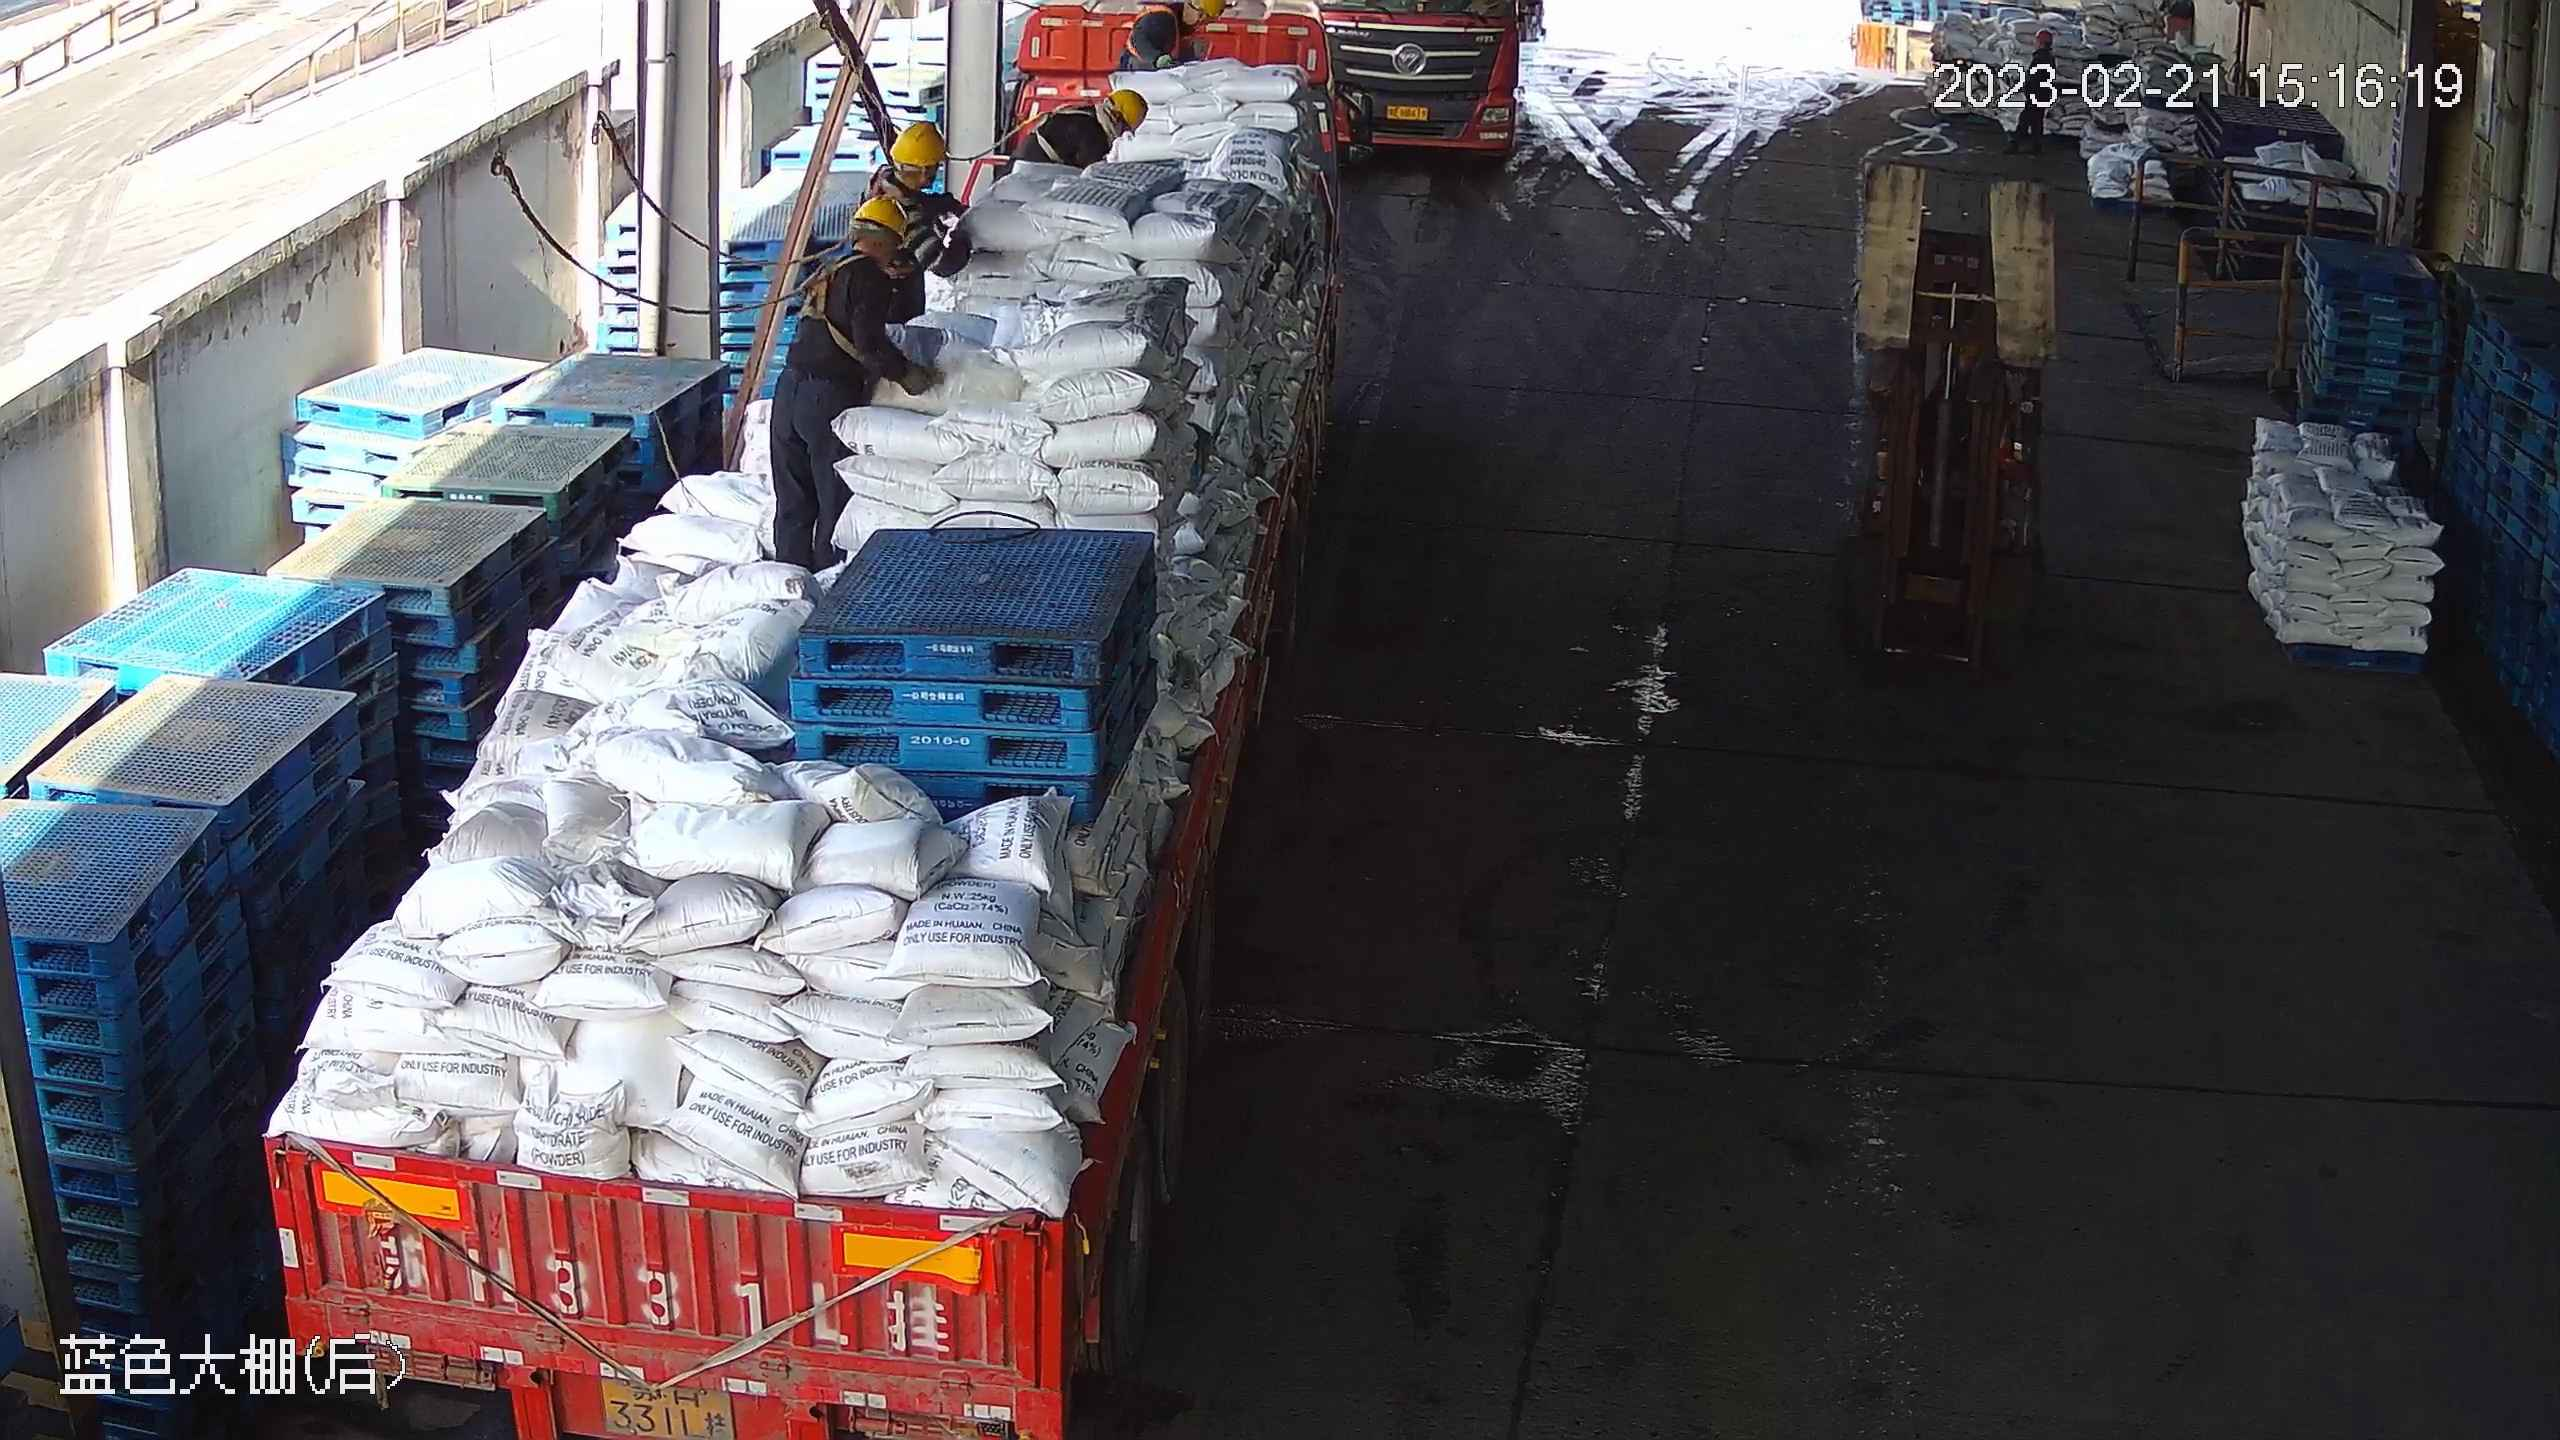belt: (796, 257, 883, 364), (1031, 92, 1099, 158)
head: (803, 192, 909, 323), (1049, 81, 1144, 168)
helmet: (879, 110, 955, 166), (1100, 80, 1151, 132), (857, 192, 907, 238)
people: (775, 182, 911, 579)
truck: (240, 16, 1366, 1440), (1310, 1, 1551, 173)
